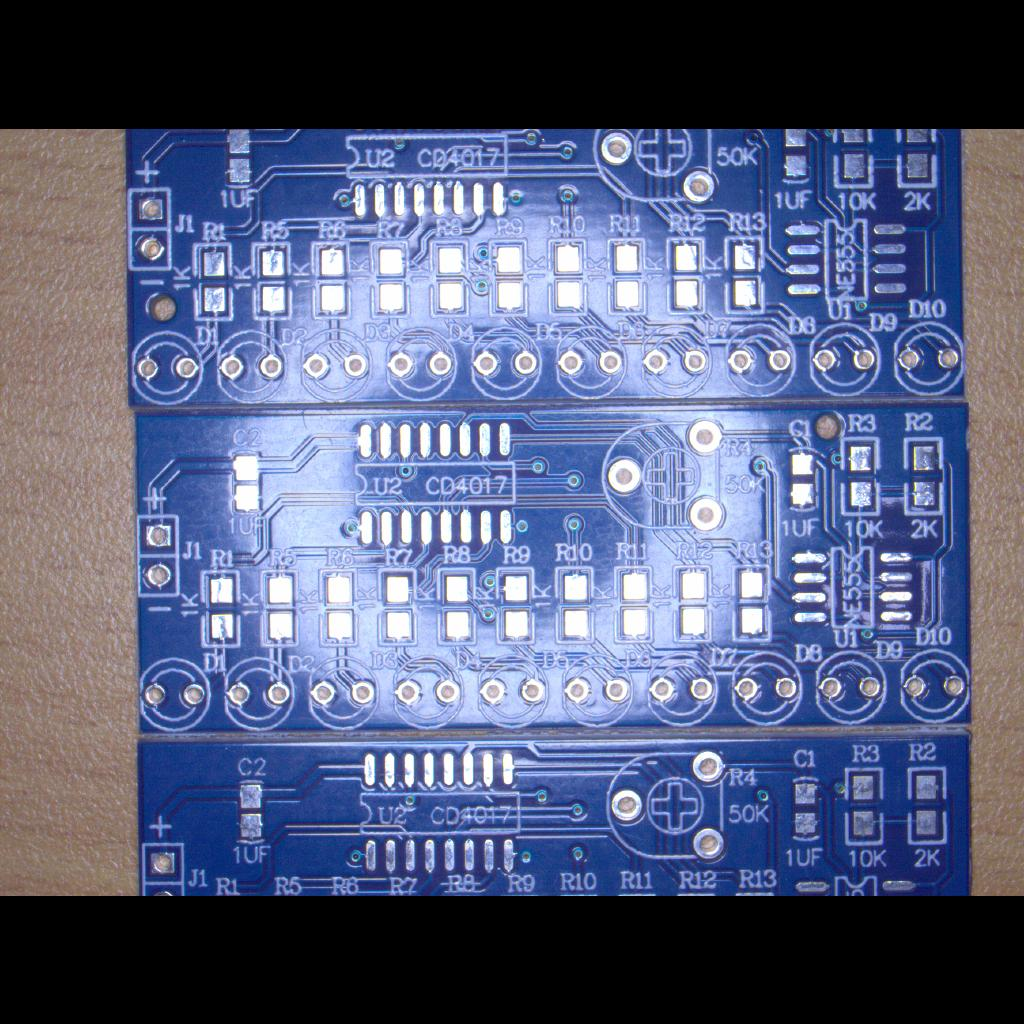NG: (350, 414, 524, 552), (352, 745, 526, 881), (784, 539, 924, 641), (778, 210, 916, 310), (246, 238, 298, 324), (900, 433, 950, 519), (306, 238, 356, 322), (365, 238, 415, 322), (484, 234, 534, 318), (543, 234, 593, 318), (728, 562, 778, 646), (426, 234, 474, 320), (190, 238, 236, 326), (838, 432, 886, 516), (604, 232, 650, 318), (722, 232, 768, 318), (663, 234, 711, 316), (198, 568, 246, 650), (256, 566, 302, 650), (316, 565, 362, 649), (492, 564, 538, 648), (842, 764, 888, 848), (904, 763, 950, 847), (374, 565, 420, 647), (434, 564, 480, 646), (552, 564, 598, 646), (670, 563, 716, 645), (613, 564, 655, 644), (783, 442, 823, 518), (226, 444, 266, 520), (893, 128, 939, 188), (833, 128, 877, 186), (234, 776, 268, 848), (790, 774, 822, 846)
